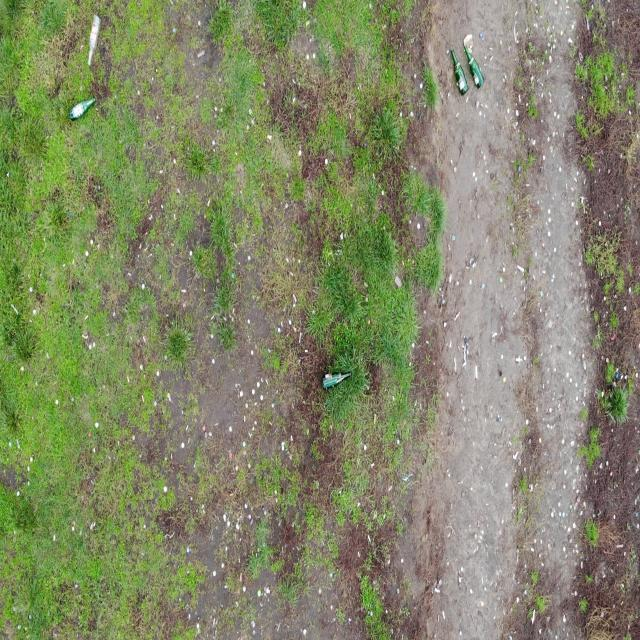rubbish: (465, 45, 486, 90), (450, 51, 468, 94), (88, 14, 102, 66), (70, 96, 96, 121), (322, 372, 351, 390)
